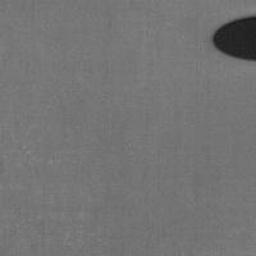Punching: (214, 17, 256, 60)
